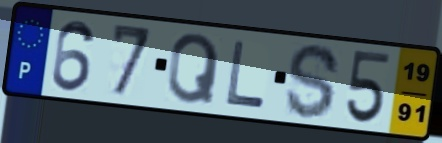5: (343, 48, 393, 126)
6: (50, 17, 97, 94)
7: (108, 21, 154, 99)
L: (223, 38, 268, 111)
Q: (165, 31, 222, 107)
S: (283, 42, 342, 122)
